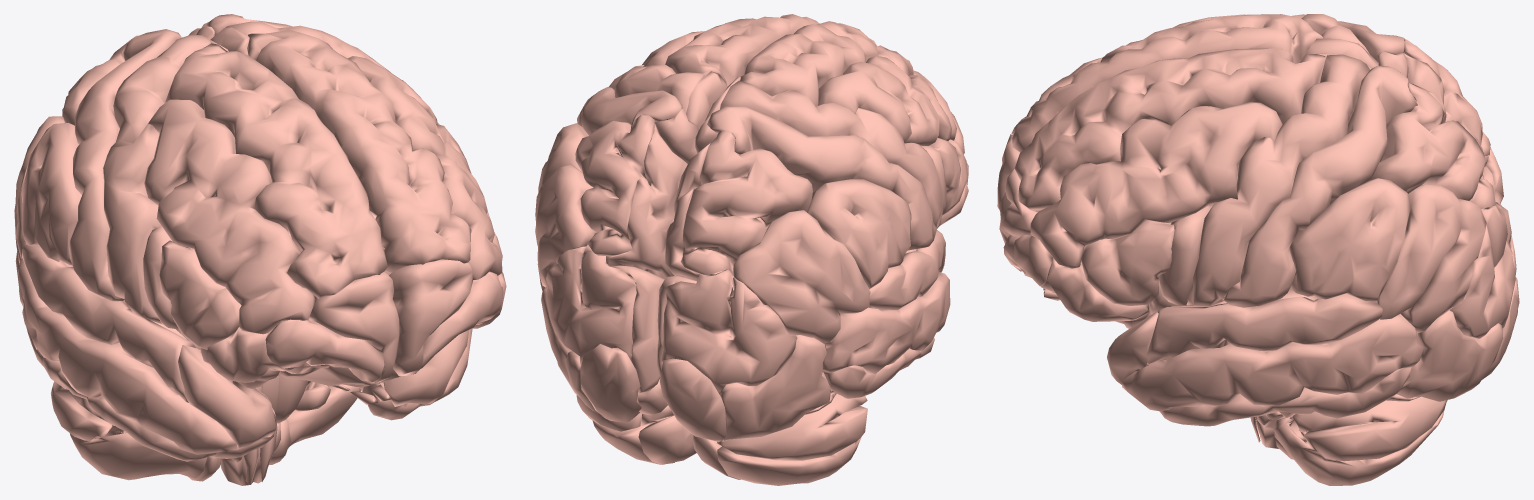
Rendered from brain.glb.
3 views of the same model, side by side, from view 1: azimuth 30°, elevation 25°; view 2: azimuth 150°, elevation 25°; view 3: azimuth 270°, elevation 25° (orthographic). The views are drawn at different scales.
Visible parts, largest first — view 1: Allen_olfactory_bulb_L; view 2: Allen_olfactory_bulb_L; view 3: Allen_olfactory_bulb_L.
Part boxes in pixels (box(x1,y1,x2,y2)): Allen_olfactory_bulb_L: box(14, 14, 506, 485); Allen_olfactory_bulb_L: box(535, 14, 968, 485); Allen_olfactory_bulb_L: box(997, 14, 1519, 485).
Bounding box in the file's own units: 0.1363 × 0.146 × 0.1668.
